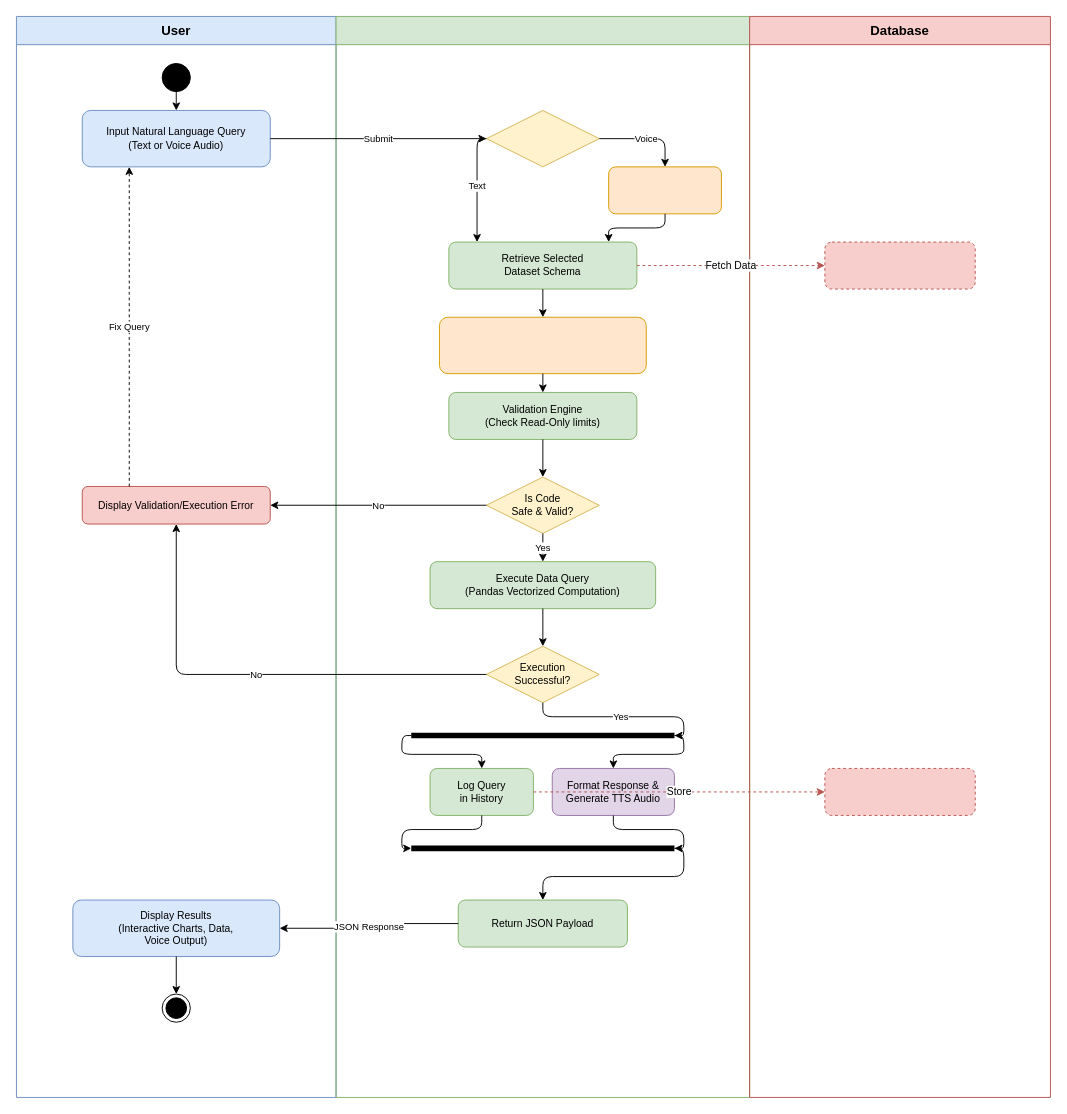
Image size: 1067x1114. Some labels were removed from this diagram. The shapes that lost their labels are listed below. From the top down, each one's box as (x1, y1, x2, y2) in pixels, then its label:
(486, 110, 599, 167): Voice or Text?
(608, 166, 721, 214): Process Audio (Whisper STT)
(824, 241, 975, 289): Fetch schema metadata from datasets table
(439, 316, 646, 374): Generate Pandas/SQL Code via Local LLM (Phi-3 Mini)
(335, 16, 750, 1097): System (Backend)
(824, 768, 975, 815): INSERT INTO queries (Query, result_status)
